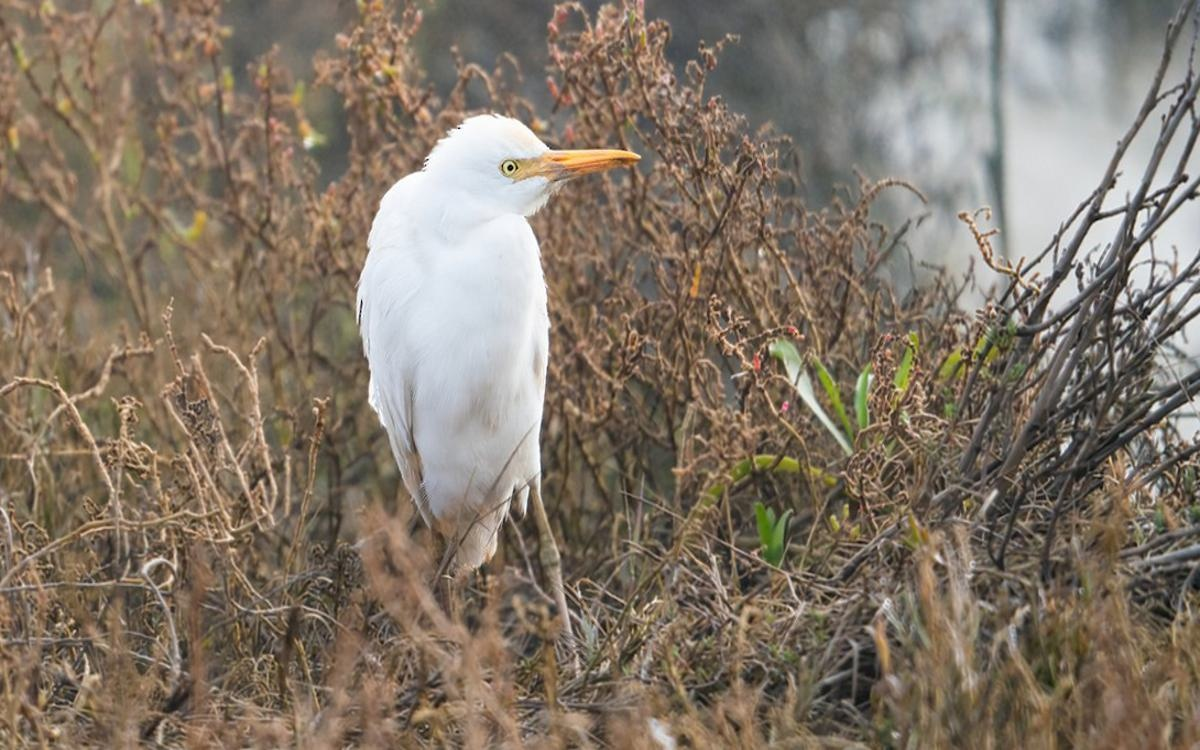egret: (346, 91, 658, 641)
